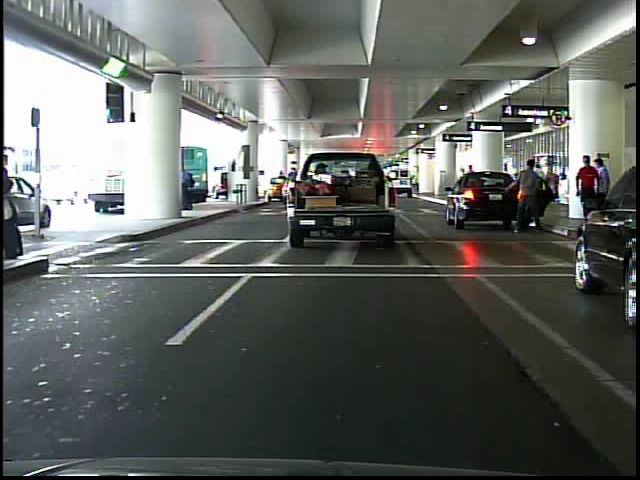person: (505, 149, 545, 239), (574, 154, 602, 230)
